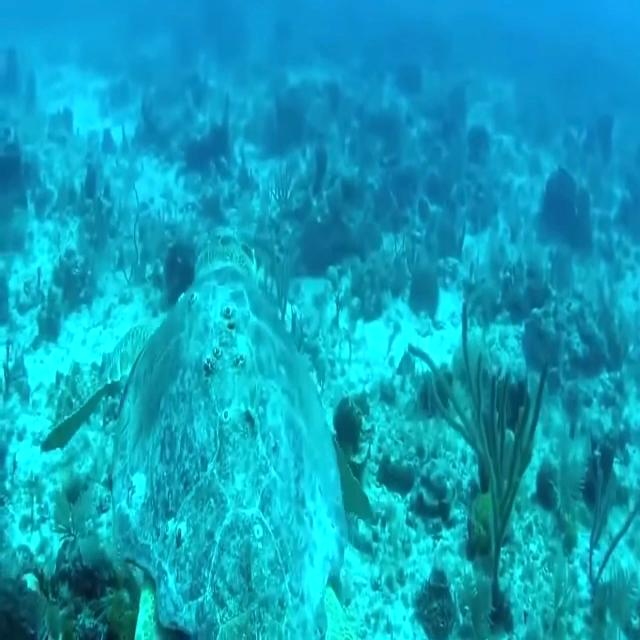Sea turtle: (37, 247, 371, 640)
